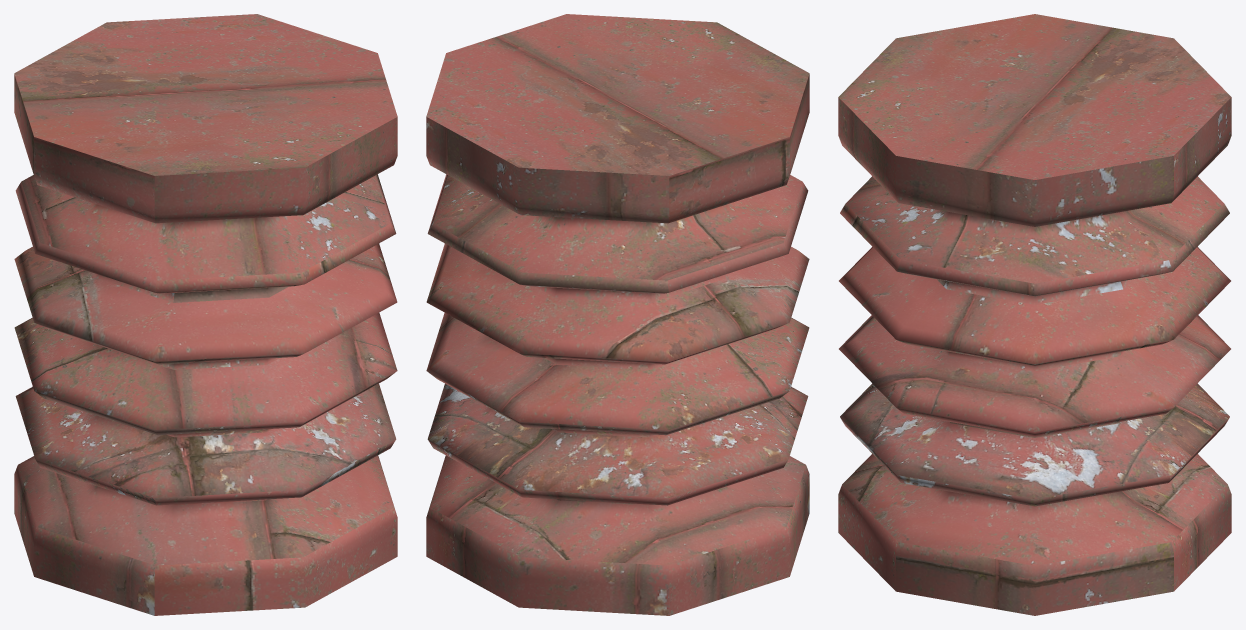
Rendered from hose.fbx.
3 renders of one model, left to right at view 1: azimuth 30°, elevation 25°; view 2: azimuth 150°, elevation 25°; view 3: azimuth 270°, elevation 25°, orthographic.
Parts seen in each view (by area): view 1: Hose001; view 2: Hose001; view 3: Hose001.
Part boxes in pixels (<box>): Hose001: <box>14,14,397,615</box>; Hose001: <box>426,14,809,615</box>; Hose001: <box>838,14,1231,615</box>.
Size of the model in its own units: 1.52 by 1.86 by 1.52.
1 material, 1 textured.
